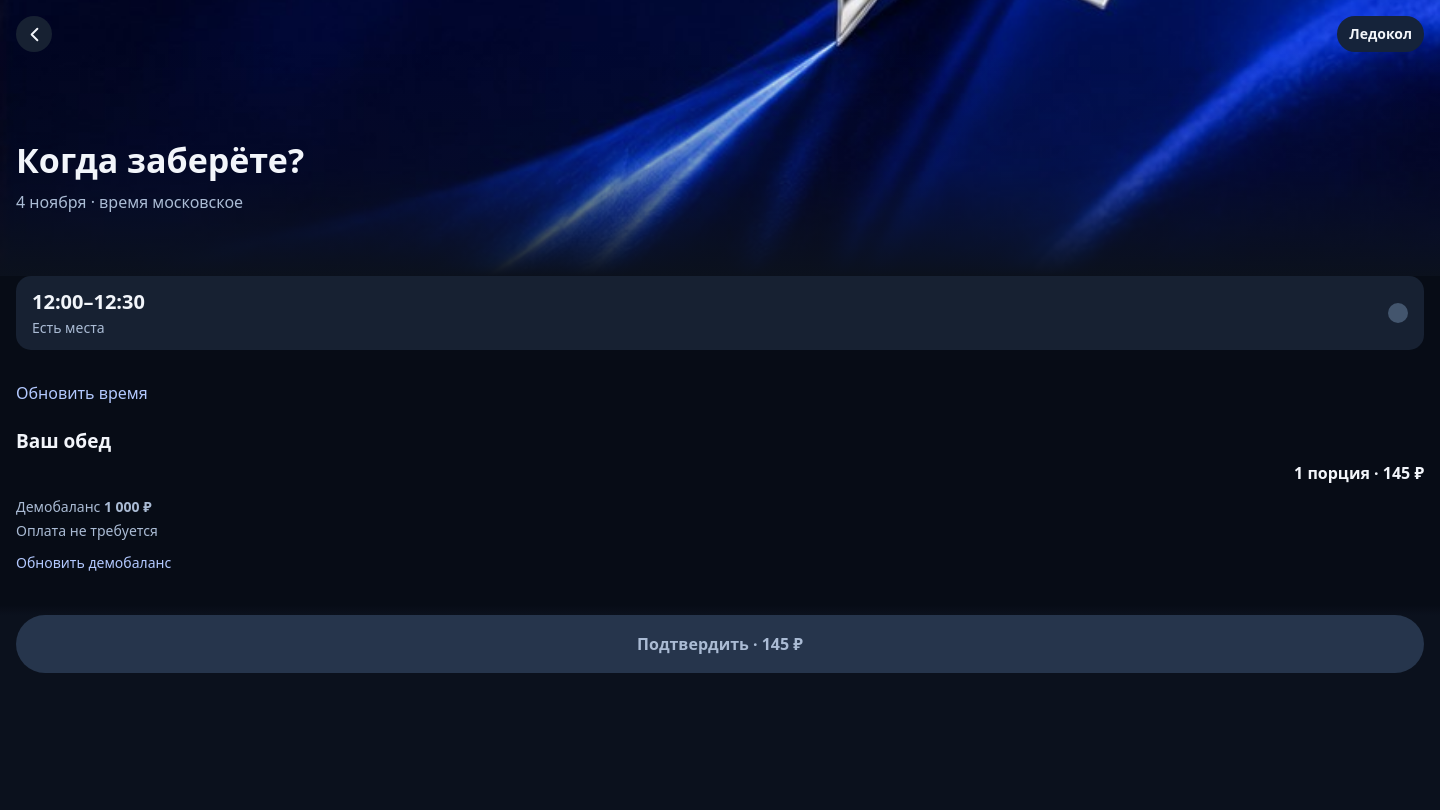
Scenario: unwritable storage blocks POST before any request is sent
Click the button with aria-label "12:00–12:30 · Есть места" at (88, 302), box left=16, top=276, right=1424, bottom=350
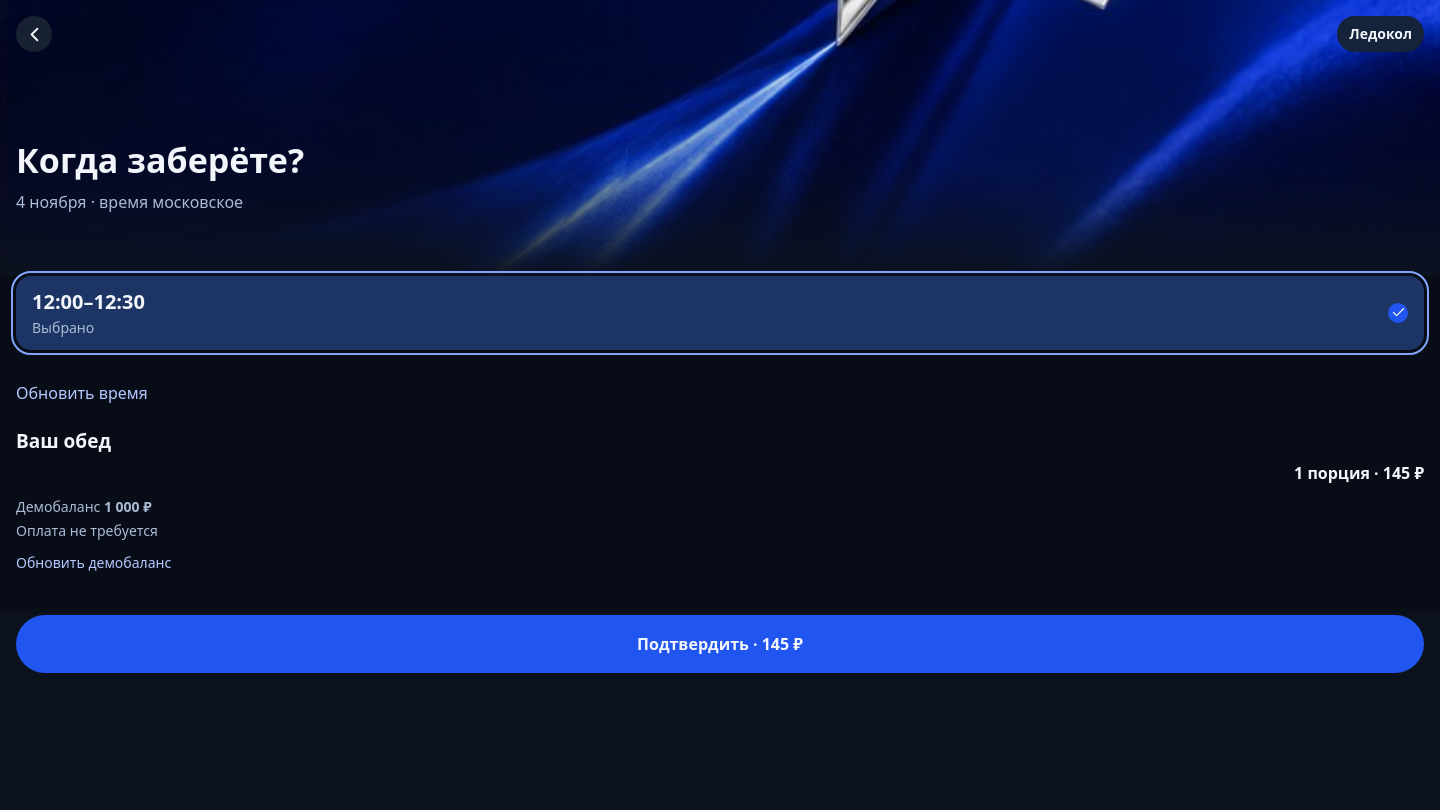
Click the button "Подтвердить · 145 ₽" at (720, 644), box left=16, top=615, right=1424, bottom=673
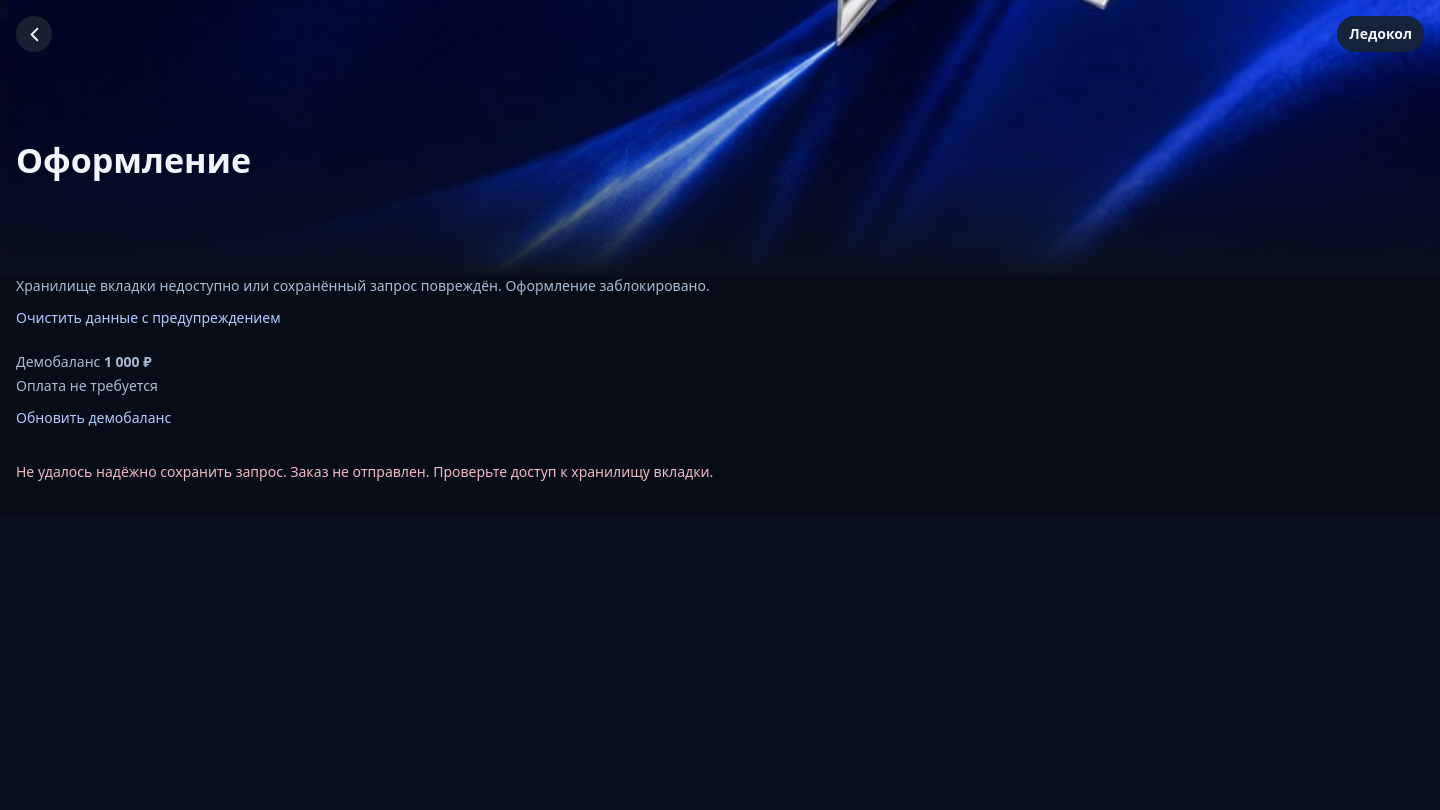
Expected: the text "Заказ не отправлен" is shown, left=16, top=462, right=713, bottom=481
